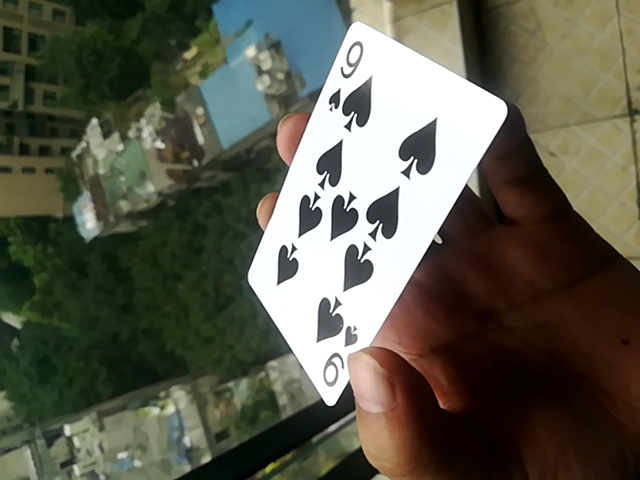ht 9: (242, 7, 510, 417)
